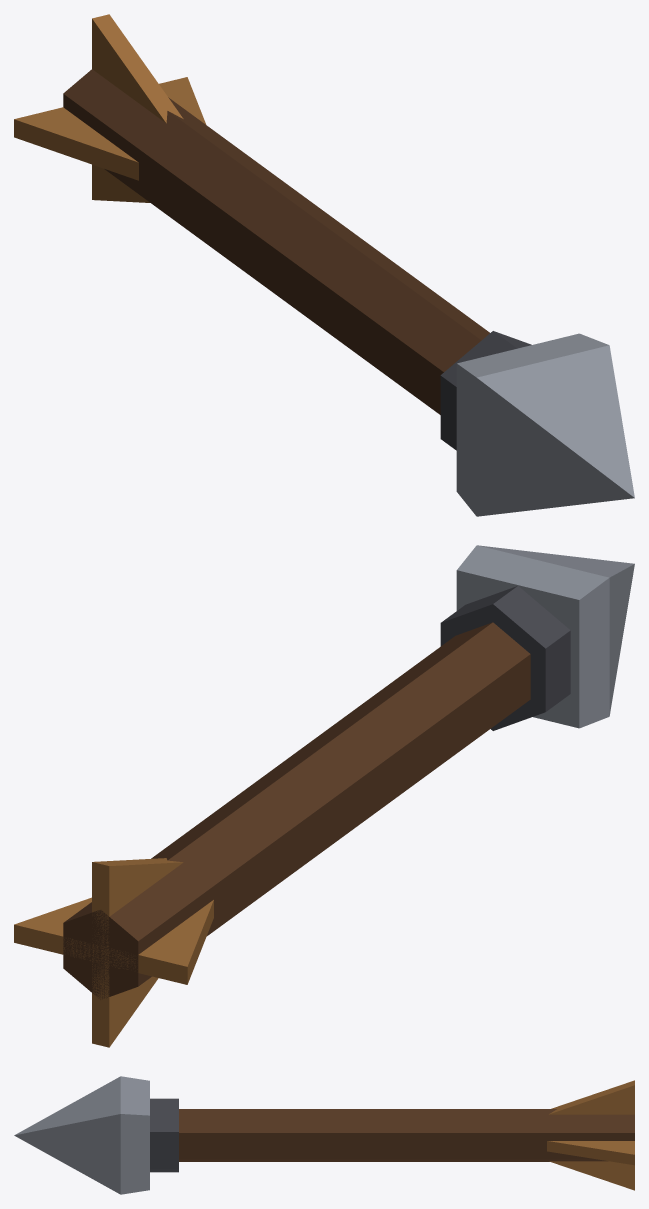
File: proj_bolt.glb
3 renders of one model, top to bottom at view 1: azimuth 30°, elevation 25°; view 2: azimuth 150°, elevation 25°; view 3: azimuth 270°, elevation 25°, orthographic. The views are drawn at different scales.
Parts seen in each view (by area): view 1: proj_bolt; view 2: proj_bolt; view 3: proj_bolt.
Part boxes in pixels (x1,y1,x2,y2): proj_bolt: [14, 14, 634, 516]; proj_bolt: [14, 545, 634, 1047]; proj_bolt: [14, 1076, 634, 1194].
Bounding box in the file's own units: 0.12 × 0.12 × 0.64.
